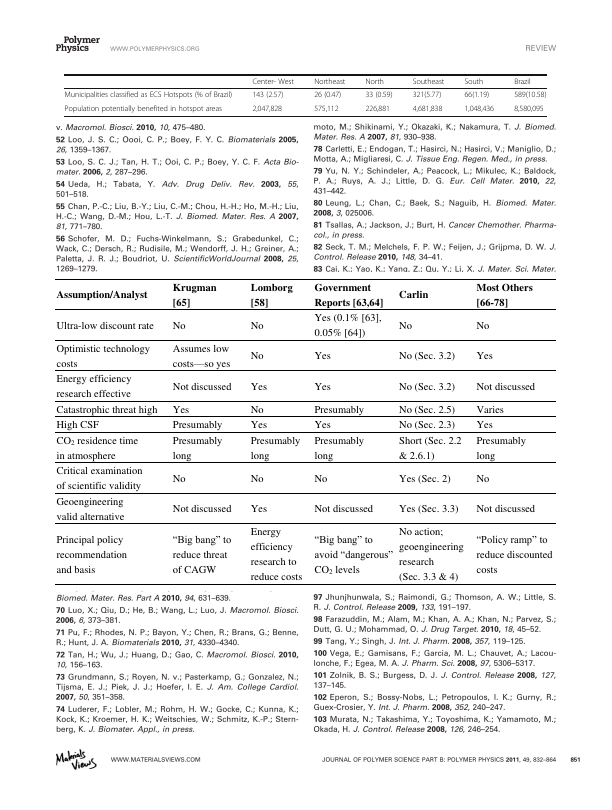borderless: (55, 277, 556, 584), (64, 73, 547, 116)
cell: (398, 525, 465, 584), (314, 531, 394, 577), (475, 531, 554, 576), (55, 533, 128, 576), (250, 525, 303, 584), (172, 531, 232, 576), (55, 342, 151, 370), (55, 464, 144, 493), (55, 434, 139, 462), (55, 372, 132, 401), (314, 280, 384, 309), (314, 311, 383, 340), (55, 495, 125, 523), (398, 434, 463, 462), (475, 280, 534, 309), (172, 342, 231, 371), (64, 90, 233, 100), (64, 104, 223, 114), (475, 434, 527, 462), (172, 434, 223, 462), (250, 434, 301, 462), (314, 434, 365, 462), (55, 403, 158, 416), (172, 280, 218, 309), (55, 288, 148, 302), (55, 319, 155, 332), (250, 280, 294, 309), (398, 502, 460, 516), (475, 502, 536, 516), (172, 502, 232, 516), (314, 502, 374, 516), (398, 349, 456, 363), (398, 418, 456, 432), (475, 380, 536, 393), (172, 380, 232, 393), (398, 380, 456, 393), (398, 403, 456, 416), (172, 418, 223, 432), (398, 472, 452, 485), (314, 403, 365, 416), (55, 418, 100, 432), (398, 288, 429, 302), (251, 77, 295, 86), (475, 403, 505, 416), (513, 90, 547, 100), (251, 90, 284, 100), (251, 104, 283, 114), (463, 104, 495, 114), (513, 104, 545, 114), (412, 104, 443, 114), (412, 90, 442, 100), (313, 77, 346, 86), (412, 77, 445, 86), (313, 90, 342, 100), (364, 90, 393, 100), (463, 90, 490, 100), (364, 104, 391, 114), (475, 349, 494, 363), (475, 418, 494, 432), (313, 104, 339, 114), (314, 349, 332, 363), (250, 418, 268, 432), (314, 418, 332, 432), (250, 502, 268, 516), (250, 380, 268, 393), (314, 380, 332, 393), (172, 403, 190, 416), (250, 349, 265, 363), (172, 319, 187, 332), (250, 319, 265, 332), (398, 319, 413, 332), (475, 319, 490, 332), (250, 403, 265, 416), (172, 472, 187, 485), (250, 472, 265, 485), (475, 472, 490, 485), (364, 77, 385, 86), (463, 77, 484, 86), (314, 472, 328, 485), (513, 77, 532, 86)
